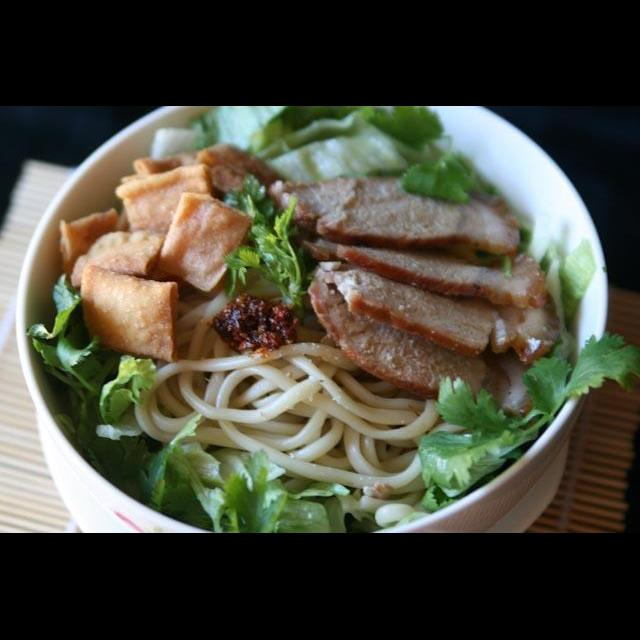banh da: (110, 162, 224, 282), (150, 190, 255, 298), (76, 264, 185, 366), (53, 206, 167, 288)
mi: (129, 268, 348, 474), (250, 366, 473, 530)
mi quang: (28, 150, 613, 534)
thit heo: (302, 270, 544, 420), (307, 252, 563, 368), (267, 172, 523, 264), (300, 230, 551, 314)
